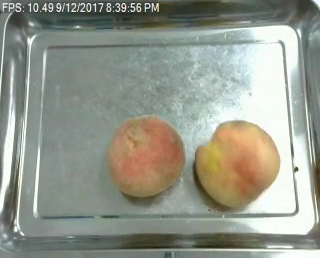Peach: (195, 119, 280, 209), (107, 115, 184, 197)
